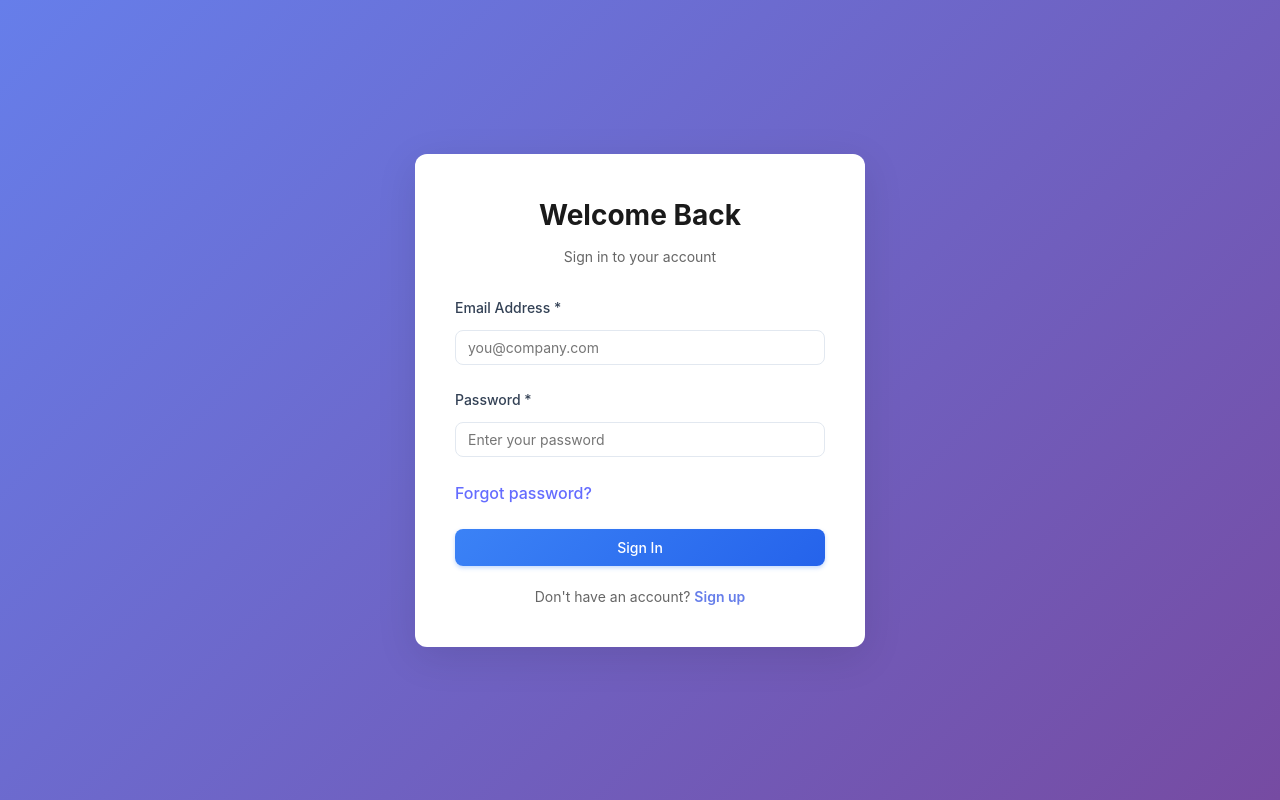
Scenario: Login Component › should display error message on login failure
Type "test@example.com" into the field labelled "Email Address *".
click(640, 347); type("test@example.com")  # box [455,330,825,364]
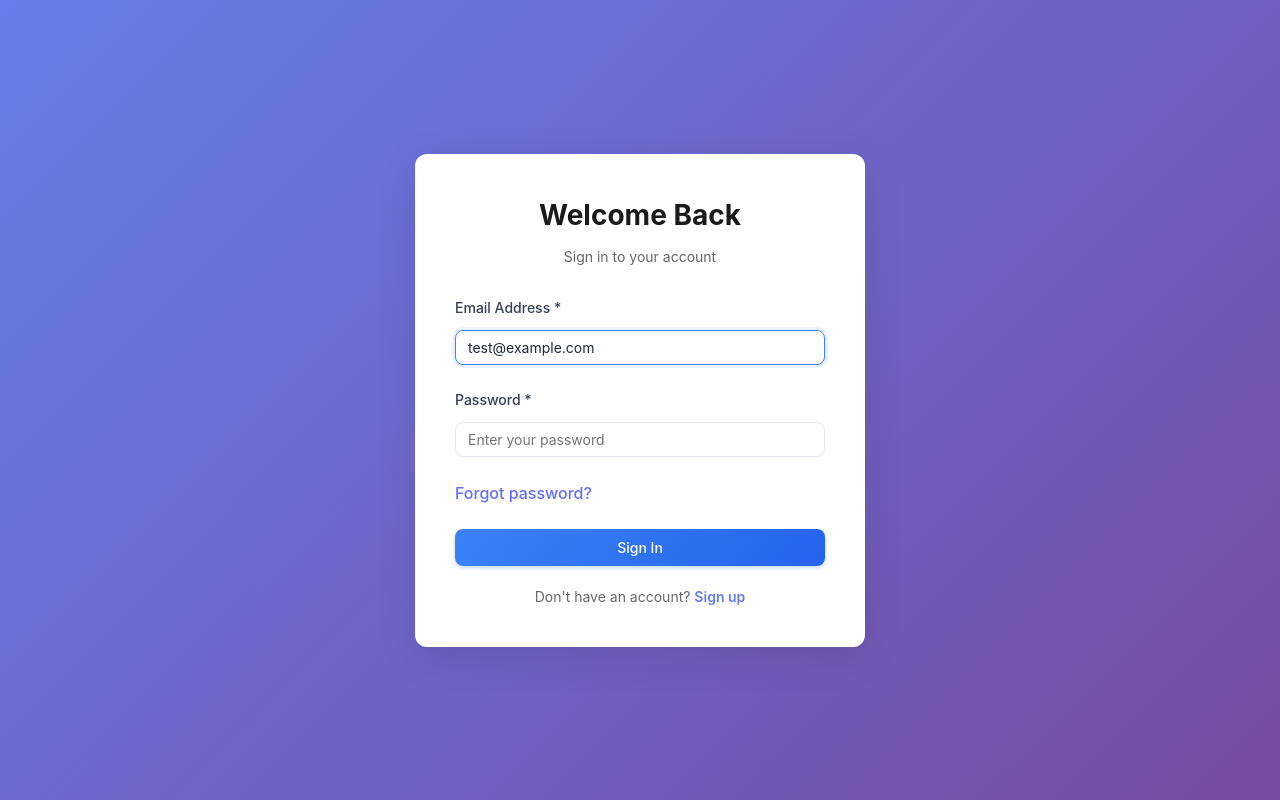
Type "WrongPassword123!" into the password field labelled "Password *".
click(640, 439); type("WrongPassword123!")  # box [455,422,825,456]
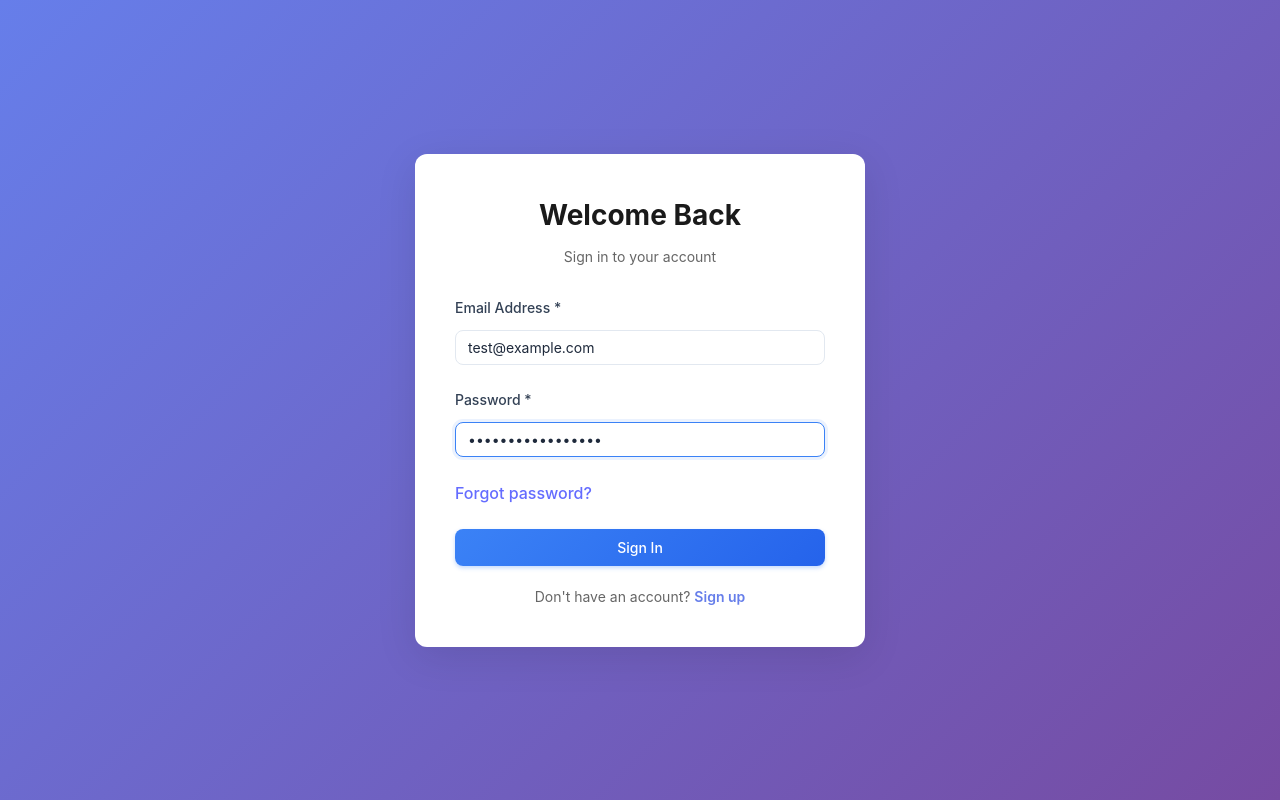
Click the button "Sign In".
click(640, 547)  # box [455,528,825,566]
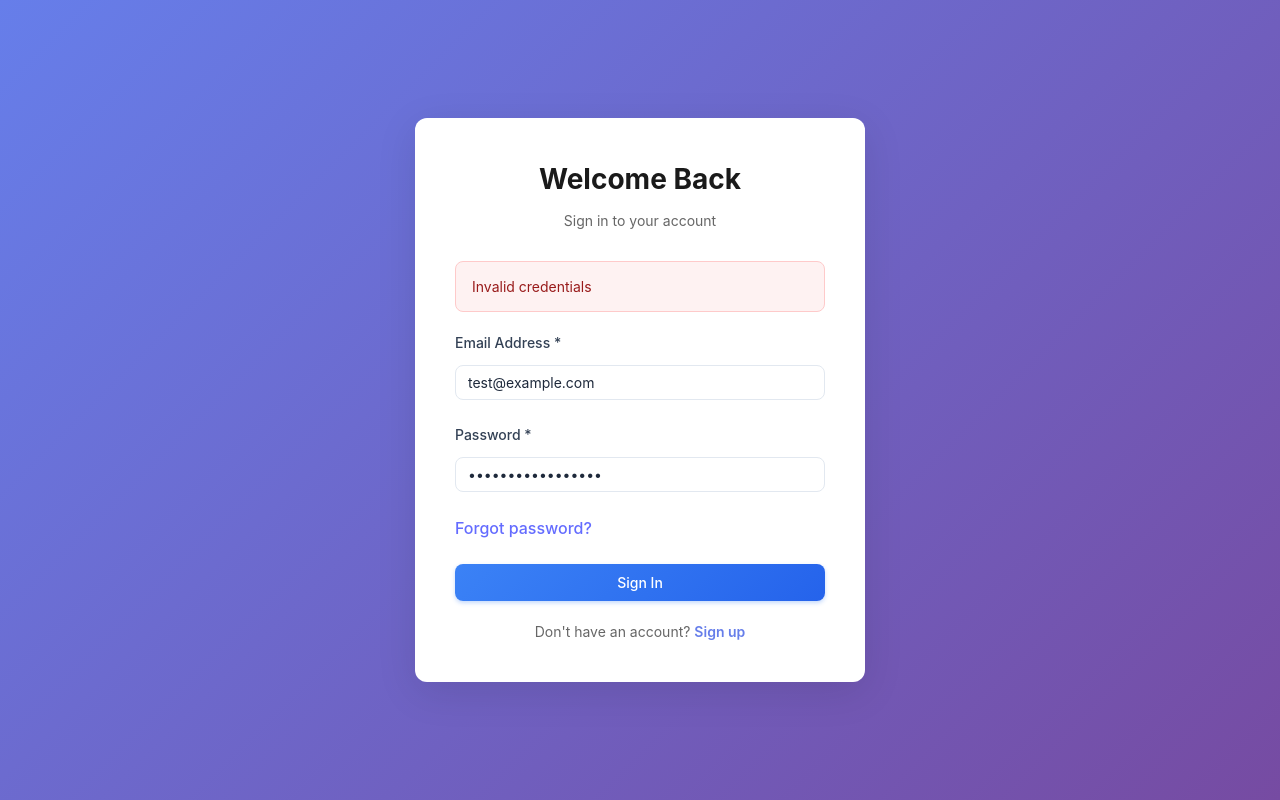
Now the text "Invalid credentials" is shown, box [455,261,825,312]
